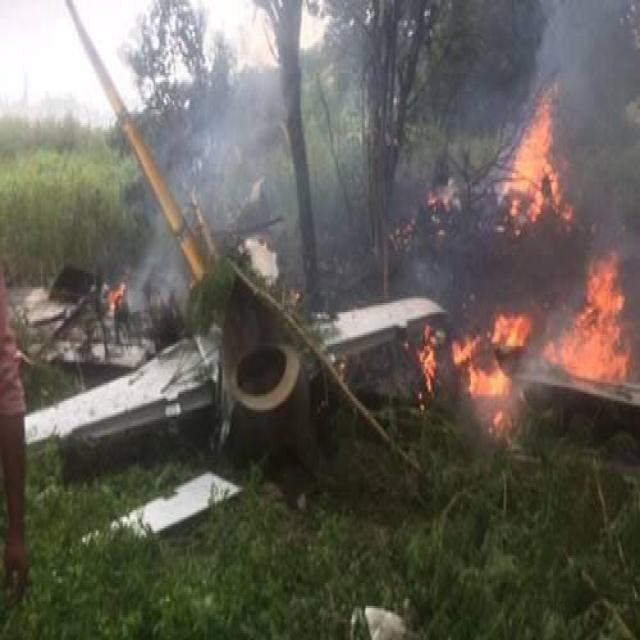fire: (412, 287, 532, 437), (537, 243, 632, 384), (497, 70, 576, 224), (420, 170, 456, 215), (100, 270, 128, 311)
smoke: (561, 20, 619, 124), (209, 96, 264, 196)
